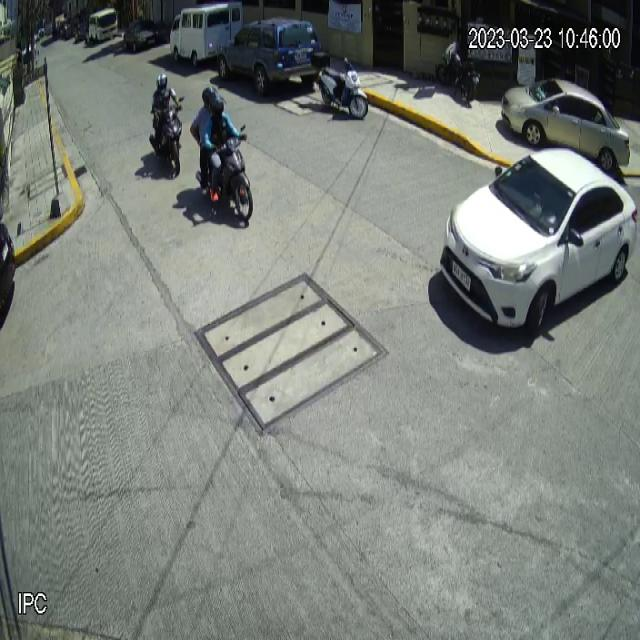Car: (437, 150, 638, 336), (499, 75, 632, 172), (216, 18, 320, 97)
Motorcycle: (310, 51, 369, 120)
Van: (169, 0, 244, 69)
